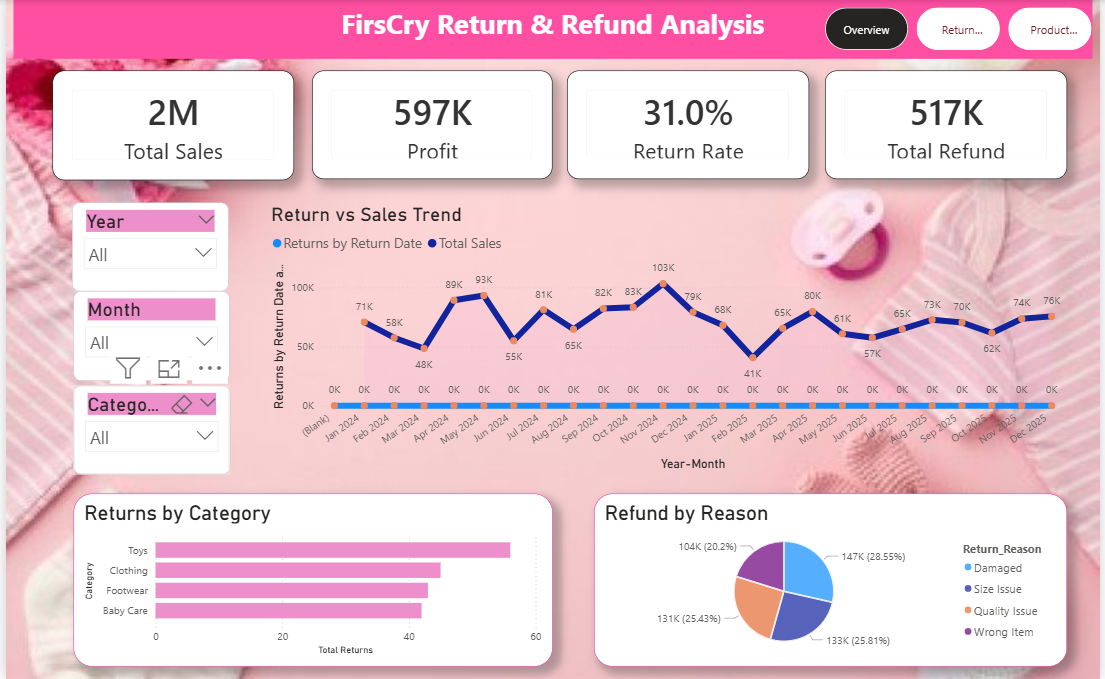

What the dashboard file says about the page in this screenshot:
{"tool":"powerbi","page":{"name":"Overview","canvas":[1290,800],"ordinal":0},"visuals":[{"type":"textbox","box":[9.6,0,1271,69.3],"z":0},{"type":"cardVisual","fields":{"Data":["Measure Table.Total Sales"]},"box":[54.8,83.1,284.5,129],"z":1000},{"type":"cardVisual","fields":{"Data":["Measure Table.Profit"]},"box":[361,83.5,283.4,128.1],"z":2000},{"type":"cardVisual","fields":{"Data":["Measure Table.Return Rate"]},"box":[661.8,83.5,285.3,128.1],"z":3000},{"type":"cardVisual","fields":{"Data":["Measure Table.Total Refund"]},"box":[964.6,83.5,285.3,128.1],"z":4000},{"type":"slicer","fields":{"Values":["DateTable.Date.Variation.Date Hierarchy.Year"]},"box":[77.6,238.7,184.4,104.8],"z":5000},{"type":"slicer","fields":{"Values":["DateTable.Date.Variation.Date Hierarchy.Month"]},"box":[79.5,342.9,183.8,106],"z":6000},{"type":"slicer","fields":{"Values":["Orders.Category"]},"box":[79.6,454.2,184.4,104.8],"z":7000},{"type":"lineChart","title":"Return vs Sales Trend","fields":{"Y":["DateTable.Returns by Return Date","Measure Table.Total Sales"],"Category":["DateTable.Year-Month"]},"box":[306.7,238.7,943.3,320.2],"z":8000},{"type":"barChart","title":"Returns by Category","fields":{"Category":["Orders.Category"],"Y":["Measure Table.Total Returns"]},"box":[79.6,582.3,564.8,203.8],"z":9000},{"type":"pieChart","title":" Refund by Reason","fields":{"Category":["Returns.Return_Reason"],"Y":["Measure Table.Total Refund"]},"box":[692.9,582.3,557,203.8],"z":10000},{"type":"pageNavigator","box":[964.6,9.7,316.4,50.5],"z":11000}]}

Visuals, with their boxes in screenshot pixels (x1, y1, x2, y2), scaled from the page's 1290x800 canvas onto the 1105x679 screenshot:
textbox: (8,0,1097,59)
cardVisual - Measure Table.Total Sales: (47,71,291,180)
cardVisual - Measure Table.Profit: (309,71,552,180)
cardVisual - Measure Table.Return Rate: (567,71,811,180)
cardVisual - Measure Table.Total Refund: (826,71,1071,180)
slicer - DateTable.Date.Variation.Date Hierarchy.Year: (66,203,224,292)
slicer - DateTable.Date.Variation.Date Hierarchy.Month: (68,291,226,381)
slicer - Orders.Category: (68,386,226,474)
"Return vs Sales Trend" lineChart: (263,203,1071,474)
"Returns by Category" barChart: (68,494,552,667)
" Refund by Reason" pieChart: (594,494,1071,667)
pageNavigator: (826,8,1097,51)
